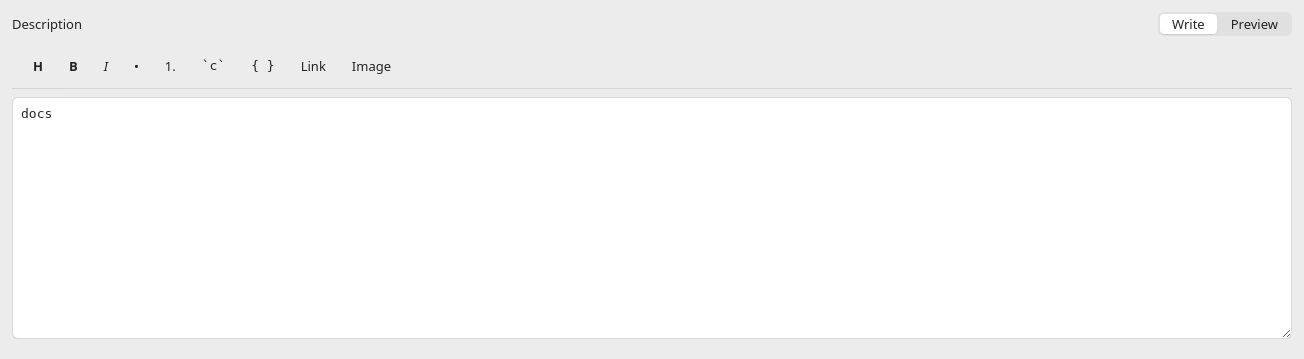
Scenario: DescriptionEditor toolbar (FR2) › Link applies its command to the selection
Step 1. Click the button "Link" → x=313, y=66, box top-left (292, 54), bottom-right (335, 78)
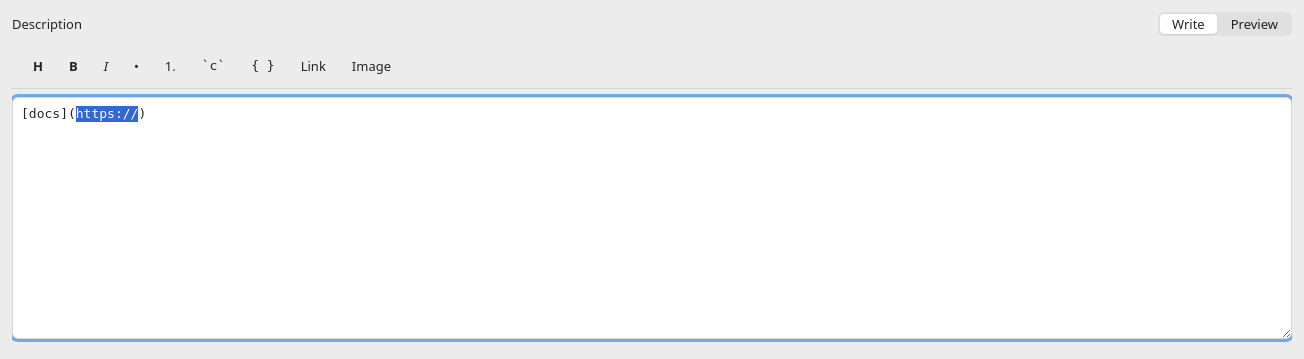
Expected: the text box labelled "Description" holds "[docs](https://)"
